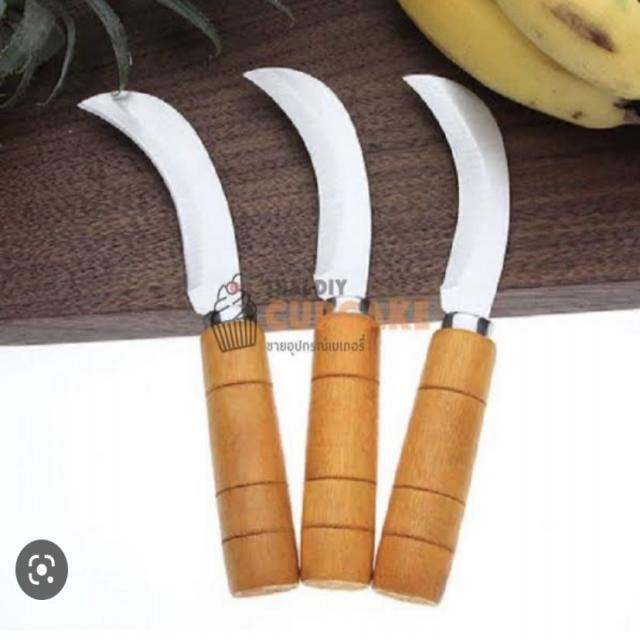Knife: (71, 67, 550, 612)
